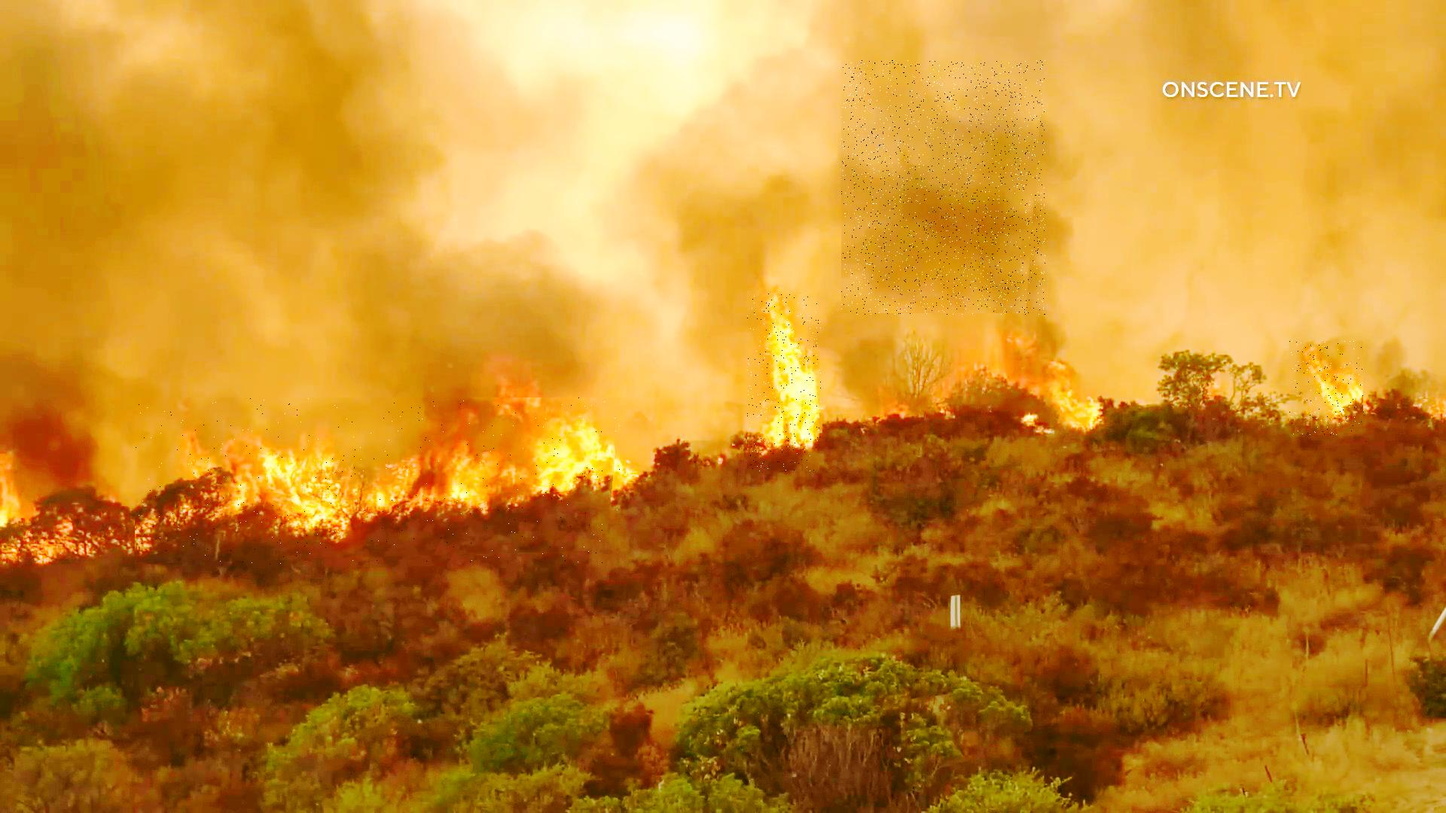fire: (135, 398, 622, 565), (748, 294, 822, 472), (1290, 341, 1365, 435)
smoke: (842, 61, 1046, 315)
